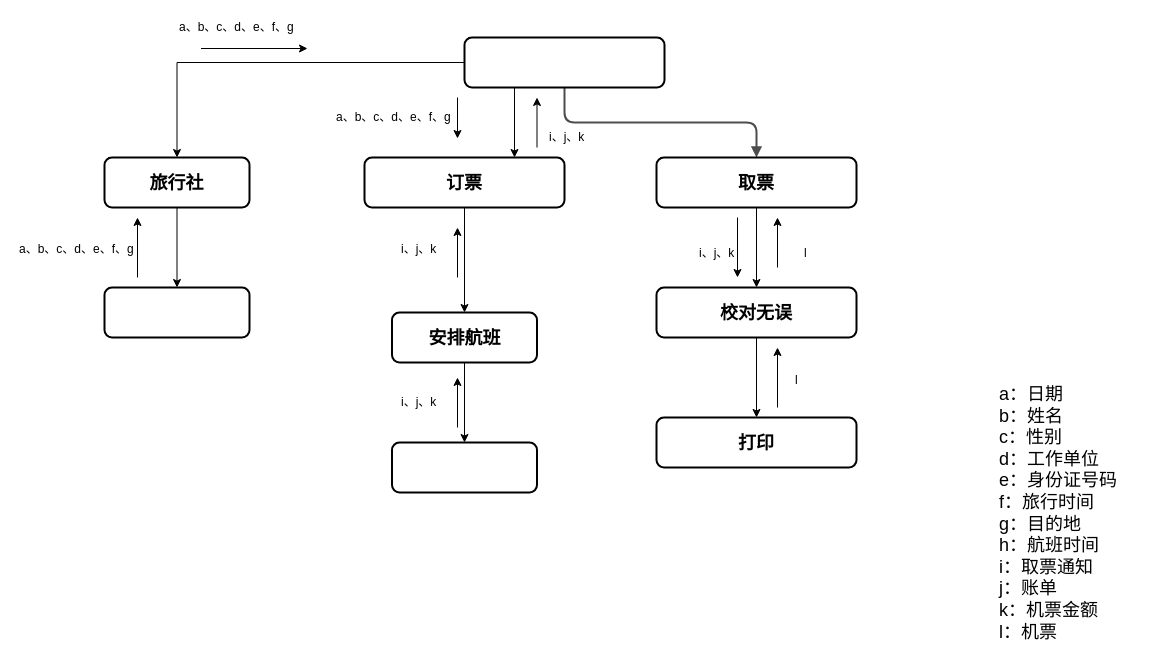
This 1155x660 diagram has some shape labels left out. Each missing label, with the centre of its shape:
"取票凭证" goes at pixel 464 467.
"旅客" goes at pixel 176 312.
"机票预订系统" goes at pixel 564 62.
